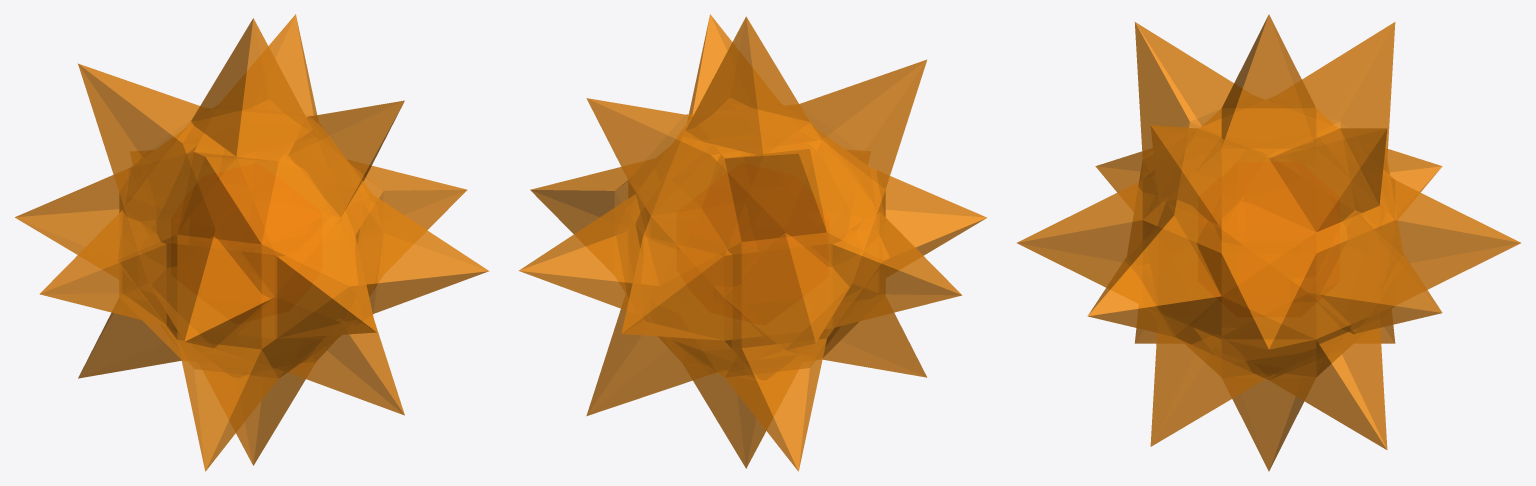
The model's file is model_3111_spotanim.obj.
3 renders of one model, left to right at view 1: azimuth 30°, elevation 25°; view 2: azimuth 150°, elevation 25°; view 3: azimuth 270°, elevation 25°, orthographic. The views are drawn at different scales.
Parts seen in each view (by area): view 1: 3111; view 2: 3111; view 3: 3111.
Part boxes in pixels (x1=…): 3111: x1=15, y1=14, x2=489, y2=471; 3111: x1=518, y1=14, x2=986, y2=471; 3111: x1=1017, y1=14, x2=1520, y2=471.
Size of the model in its own units: 64 by 64 by 64.
